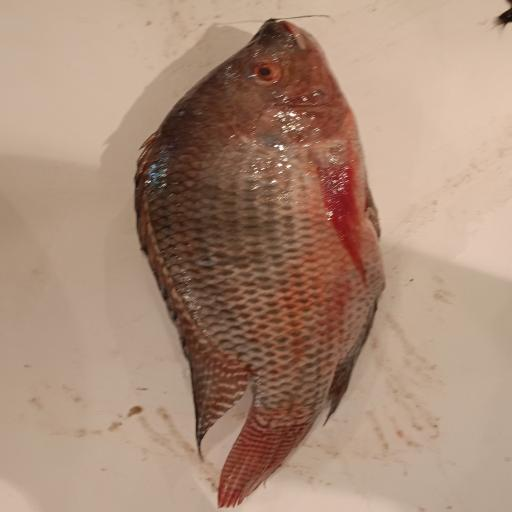Tilapia: (133, 18, 386, 509)
